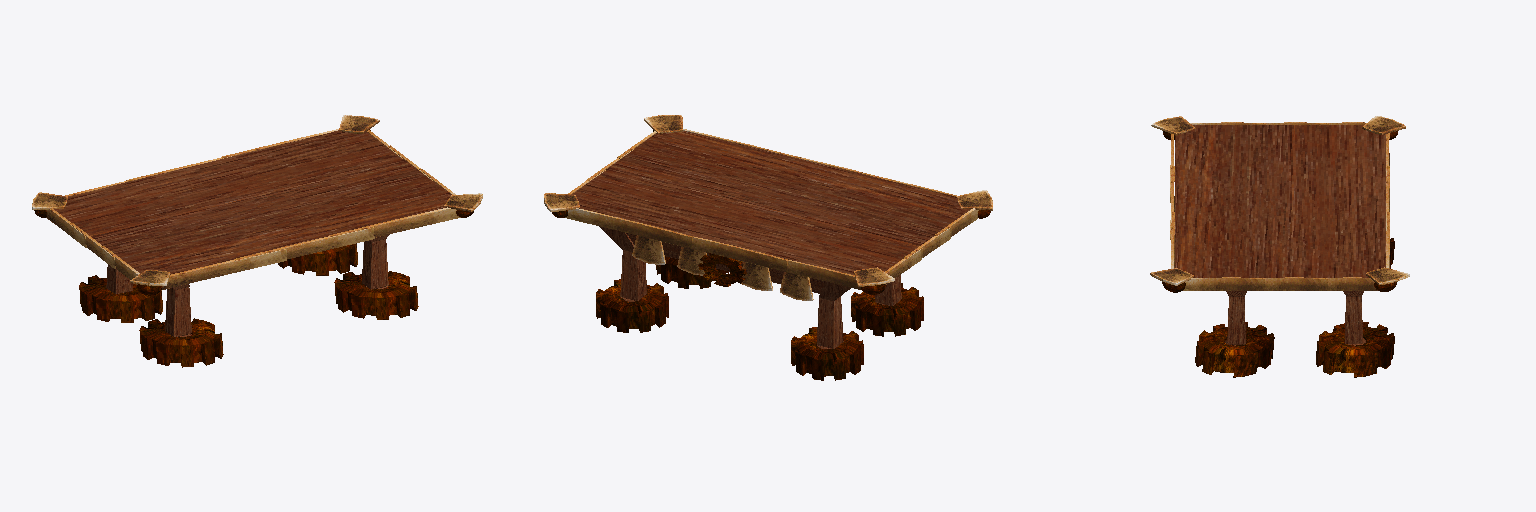
3 renders of one model, left to right at view 1: azimuth 30°, elevation 25°; view 2: azimuth 150°, elevation 25°; view 3: azimuth 270°, elevation 25°, orthographic.
Visible parts, largest first — view 1: polySurface143; view 2: polySurface143; view 3: polySurface143.
Boxes of the visible parts, box(x1,y1,x2,y2) form: polySurface143: box(32, 115, 482, 367); polySurface143: box(544, 115, 992, 380); polySurface143: box(1150, 116, 1409, 377).
Bounding box in the file's own units: 158 × 49.82 × 102.
3 materials, 3 textured.